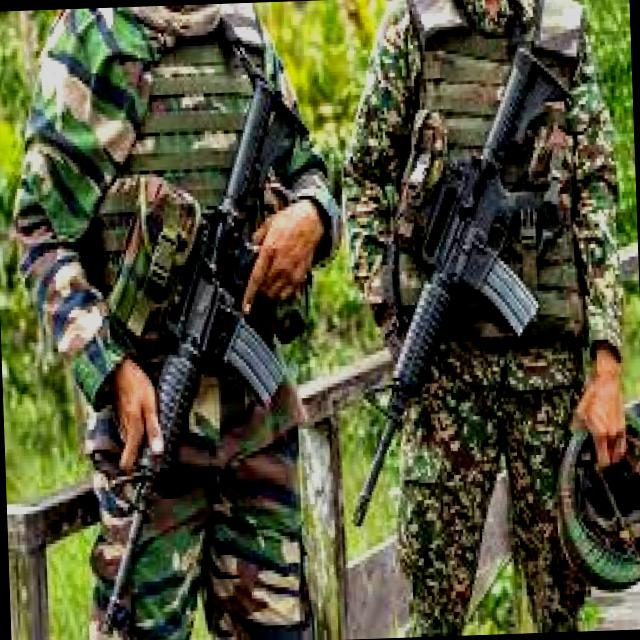m16: (314, 8, 604, 556)
